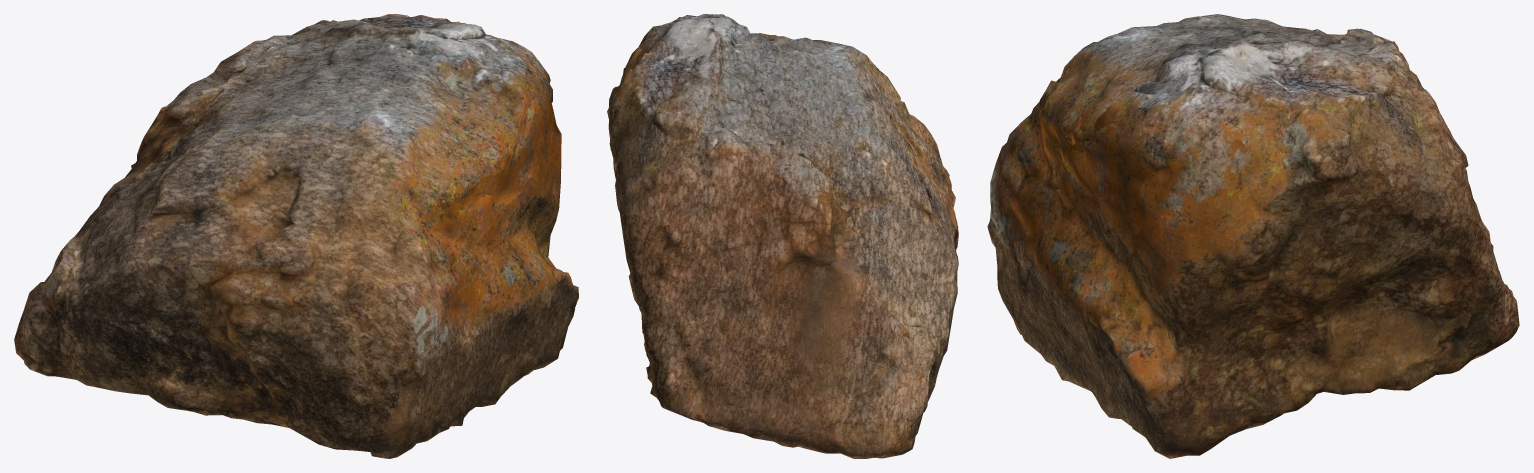
File: desert_boulder_orange.glb
The picture shows the model from 3 angles, left to right: view 1: azimuth 30°, elevation 25°; view 2: azimuth 150°, elevation 25°; view 3: azimuth 270°, elevation 25°; orthographic projection. The views are drawn at different scales.
Parts seen in each view (by area): view 1: boulder_04; view 2: boulder_04; view 3: boulder_04.
Boxes of the visible parts, x1,y1,x2,y2 form: boulder_04: (14,14,578,458); boulder_04: (607,14,958,458); boulder_04: (987,14,1519,458).
Size of the model in its own units: 2.52 by 1.9 by 2.49.
1 material, 1 textured.
